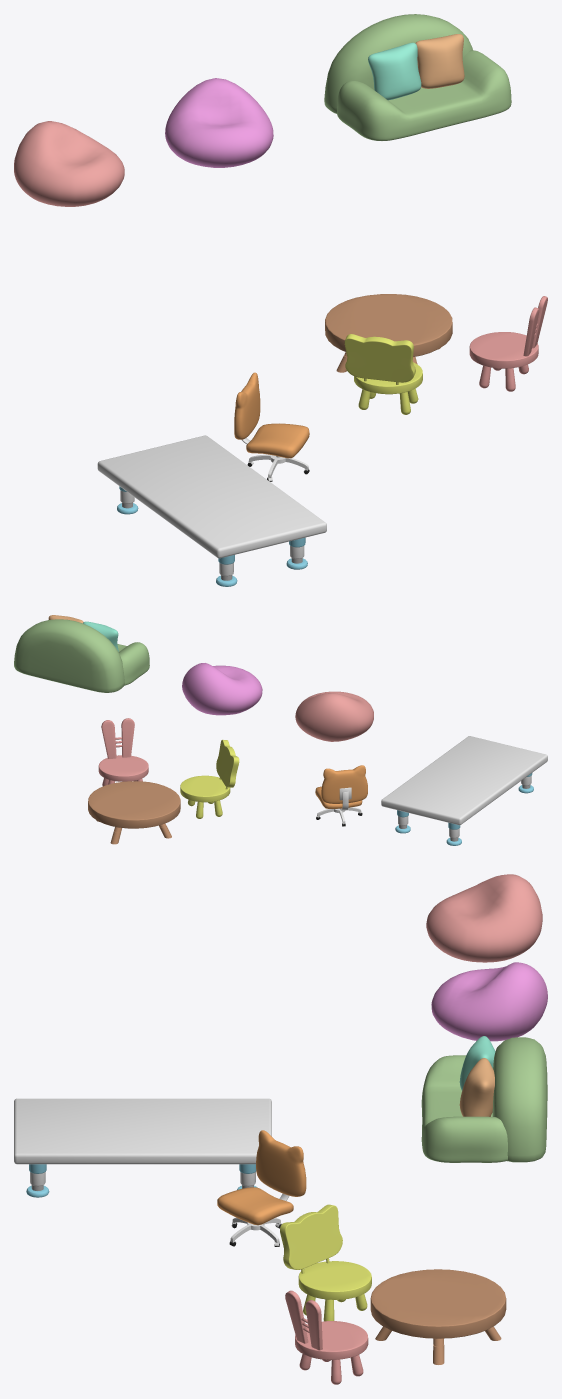
File: furniture.glb
3 renders of one model, top to bottom at view 1: azimuth 30°, elevation 25°; view 2: azimuth 150°, elevation 25°; view 3: azimuth 270°, elevation 25°, orthographic. The views are drawn at different scales.
Visible parts, largest first — view 1: Desk, Couch_Body, Beanie1, Beanie2, Table, Couch_Back, Foxito_Chair_Backrest, Pillow2, Pillow1, Bunny_Chair, Gamer_Chair_Cushion, Desk_Legs (+3 smaller); view 2: Desk, Couch_Back, Table, Beanie1, Beanie2, Gamer_Chair_Back, Bunny_Chair, Foxito_Chair, Couch_Body, Bunny_Chair_Backrest, Foxito_Chair_Backrest, Desk_Legs (+2 smaller); view 3: Desk, Table, Beanie2, Beanie1, Couch_Body, Couch_Back, Foxito_Chair_Backrest, Gamer_Chair_Back, Foxito_Chair, Bunny_Chair, Gamer_Chair_Cushion, Pillow1 (+5 smaller).
Part boxes in pixels (left/top/right/bottom): Desk: left=97, top=435, right=326, bottom=558; Couch_Body: left=337, top=50, right=511, bottom=140; Beanie1: left=165, top=78, right=273, bottom=167; Beanie2: left=14, top=121, right=124, bottom=206; Table: left=325, top=294, right=452, bottom=356; Couch_Back: left=324, top=14, right=472, bottom=113; Foxito_Chair_Backrest: left=344, top=334, right=415, bottom=382; Pillow2: left=368, top=42, right=421, bottom=100; Pillow1: left=415, top=34, right=464, bottom=88; Bunny_Chair: left=469, top=332, right=538, bottom=368; Gamer_Chair_Cushion: left=246, top=423, right=309, bottom=458; Desk_Legs: left=117, top=486, right=307, bottom=586; Desk: left=381, top=736, right=547, bottom=825; Couch_Back: left=14, top=619, right=124, bottom=692; Table: left=88, top=781, right=180, bottom=828; Beanie1: left=182, top=663, right=262, bottom=715; Beanie2: left=295, top=691, right=373, bottom=741; Gamer_Chair_Back: left=321, top=765, right=367, bottom=803; Bunny_Chair: left=98, top=755, right=148, bottom=781; Foxito_Chair: left=180, top=775, right=230, bottom=802; Couch_Body: left=117, top=642, right=149, bottom=685; Bunny_Chair_Backrest: left=101, top=718, right=134, bottom=758; Foxito_Chair_Backrest: left=216, top=739, right=239, bottom=787; Desk_Legs: left=395, top=773, right=533, bottom=845; Desk: left=14, top=1098, right=271, bottom=1164; Table: left=370, top=1269, right=506, bottom=1338; Beanie2: left=426, top=874, right=542, bottom=962; Beanie1: left=431, top=962, right=547, bottom=1041; Couch_Body: left=421, top=1055, right=507, bottom=1162; Couch_Back: left=492, top=1037, right=547, bottom=1162; Foxito_Chair_Backrest: left=280, top=1204, right=342, bottom=1269; Gamer_Chair_Back: left=256, top=1130, right=306, bottom=1196; Foxito_Chair: left=298, top=1261, right=371, bottom=1299; Bunny_Chair: left=295, top=1321, right=368, bottom=1359; Gamer_Chair_Cushion: left=217, top=1187, right=293, bottom=1225; Pillow1: left=459, top=1058, right=494, bottom=1116.
Bounding box in the file's own units: 36.79 × 21.25 × 32.36.
